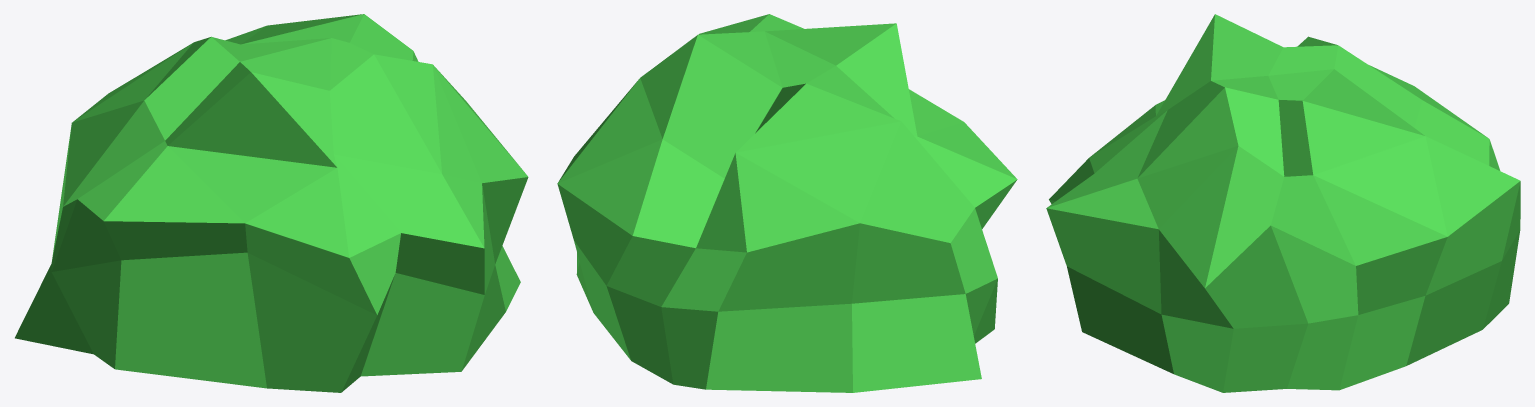
The model's file is Struik.fbx.
3 renders of one model, left to right at view 1: azimuth 30°, elevation 25°; view 2: azimuth 150°, elevation 25°; view 3: azimuth 270°, elevation 25°, orthographic. The views are drawn at different scales.
Visible parts, largest first — view 1: Cube; view 2: Cube; view 3: Cube.
Boxes of the visible parts, x1,y1,x2,y2 form: Cube: (15,14,528,392); Cube: (557,14,1017,392); Cube: (1046,14,1520,392).
Bounding box in the file's own units: 1649 × 1001 × 1657.
